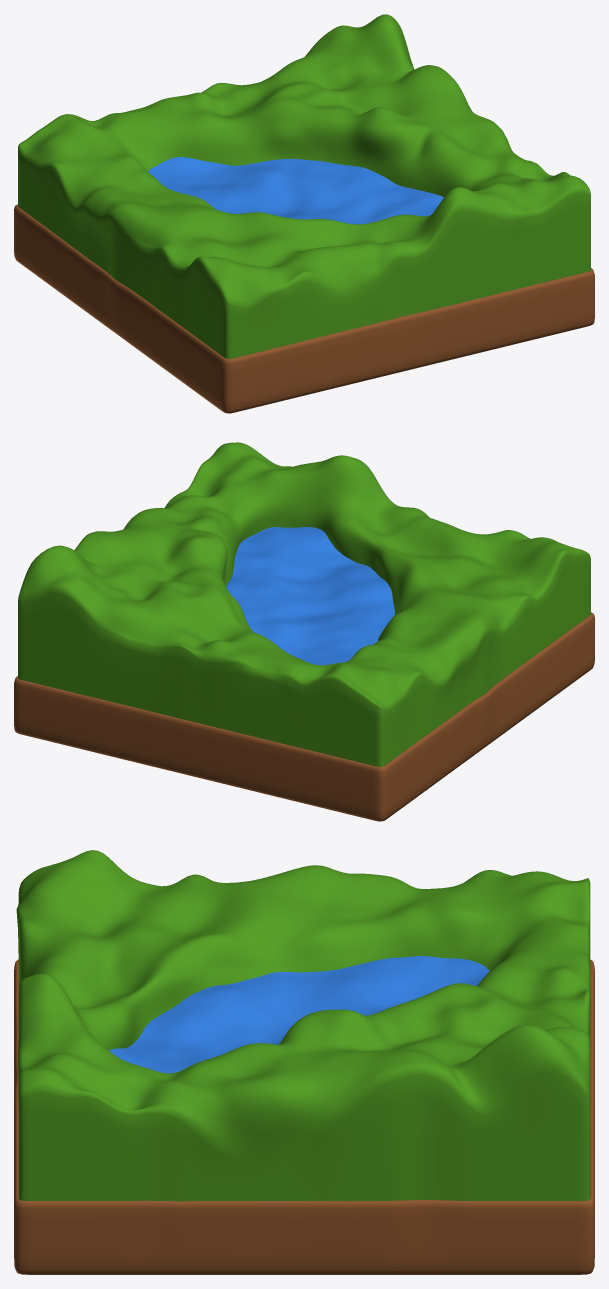
File: loch-ness-3d-icon-1518251043404.glb
3 views of the same model, one above another, from view 1: azimuth 30°, elevation 25°; view 2: azimuth 150°, elevation 25°; view 3: azimuth 270°, elevation 25° (orthographic). The views are drawn at different scales.
Visible parts, largest first — view 1: Hill, Ground, Lake; view 2: Hill, Ground, Lake; view 3: Hill, Ground, Lake.
Part boxes in pixels (box(x1,y1,x2,y2)): Hill: box(18, 14, 590, 358); Ground: box(14, 204, 594, 413); Lake: box(148, 157, 443, 224); Hill: box(18, 442, 590, 766); Ground: box(14, 612, 594, 821); Lake: box(226, 527, 394, 665); Hill: box(16, 850, 590, 1201); Ground: box(14, 959, 594, 1274); Lake: box(109, 956, 489, 1073).
Size of the model in its own units: 2 by 0.8956 by 1.99.
